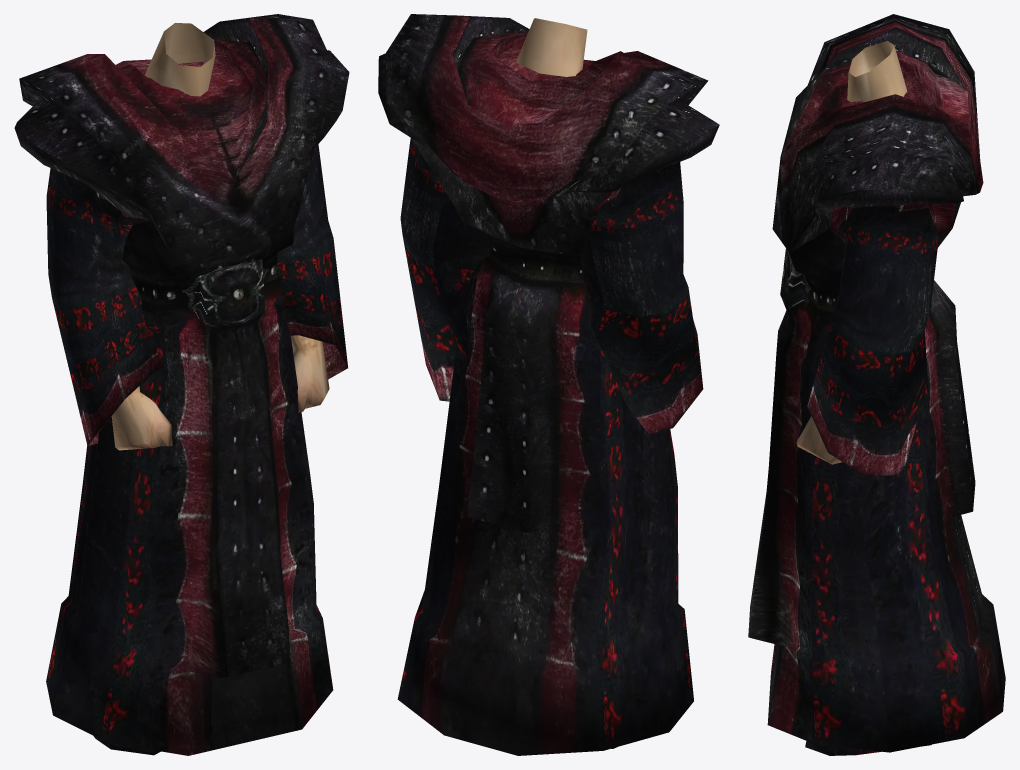
Rendered from MROK_T5_01.glb.
The picture shows the model from 3 angles, left to right: view 1: azimuth 30°, elevation 25°; view 2: azimuth 150°, elevation 25°; view 3: azimuth 270°, elevation 25°; orthographic projection. The views are drawn at different scales.
Parts seen in each view (by area): view 1: MROK_T5_01; view 2: MROK_T5_01; view 3: MROK_T5_01.
Part boxes in pixels (box(x1,y1,x2,y2)): MROK_T5_01: box(14, 14, 349, 755); MROK_T5_01: box(378, 14, 719, 755); MROK_T5_01: box(748, 14, 1005, 755).
Bounding box in the file's own units: 0.7933 × 1.66 × 0.5849.
Materials: 2 (2 with a texture image).
